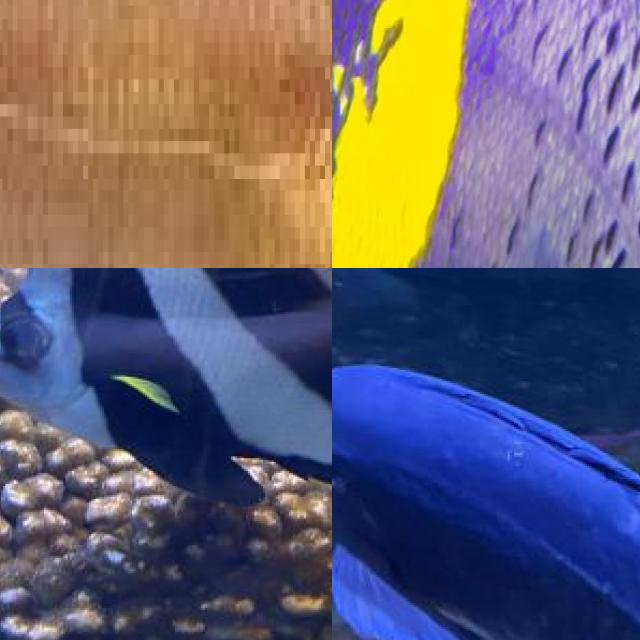fish: (332, 331, 640, 640), (0, 0, 332, 268), (332, 0, 640, 268)
